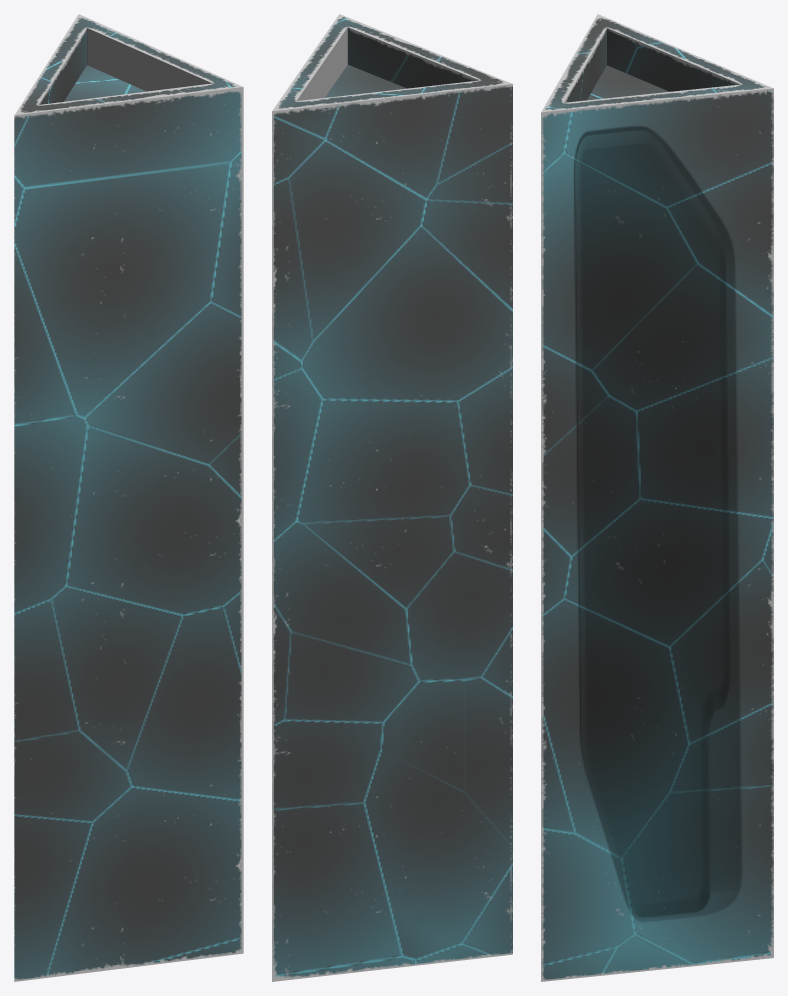
File: XineStone.fbx
The picture shows the model from 3 angles, left to right: view 1: azimuth 30°, elevation 25°; view 2: azimuth 150°, elevation 25°; view 3: azimuth 270°, elevation 25°; orthographic projection.
Visible parts, largest first — view 1: Plane; view 2: Plane; view 3: Plane.
Part boxes in pixels (bbox=[...]): Plane: bbox=[14, 14, 243, 981]; Plane: bbox=[272, 14, 512, 981]; Plane: bbox=[541, 14, 773, 981].
Size of the model in its own units: 134 by 551 by 134.
1 material, 1 textured.
